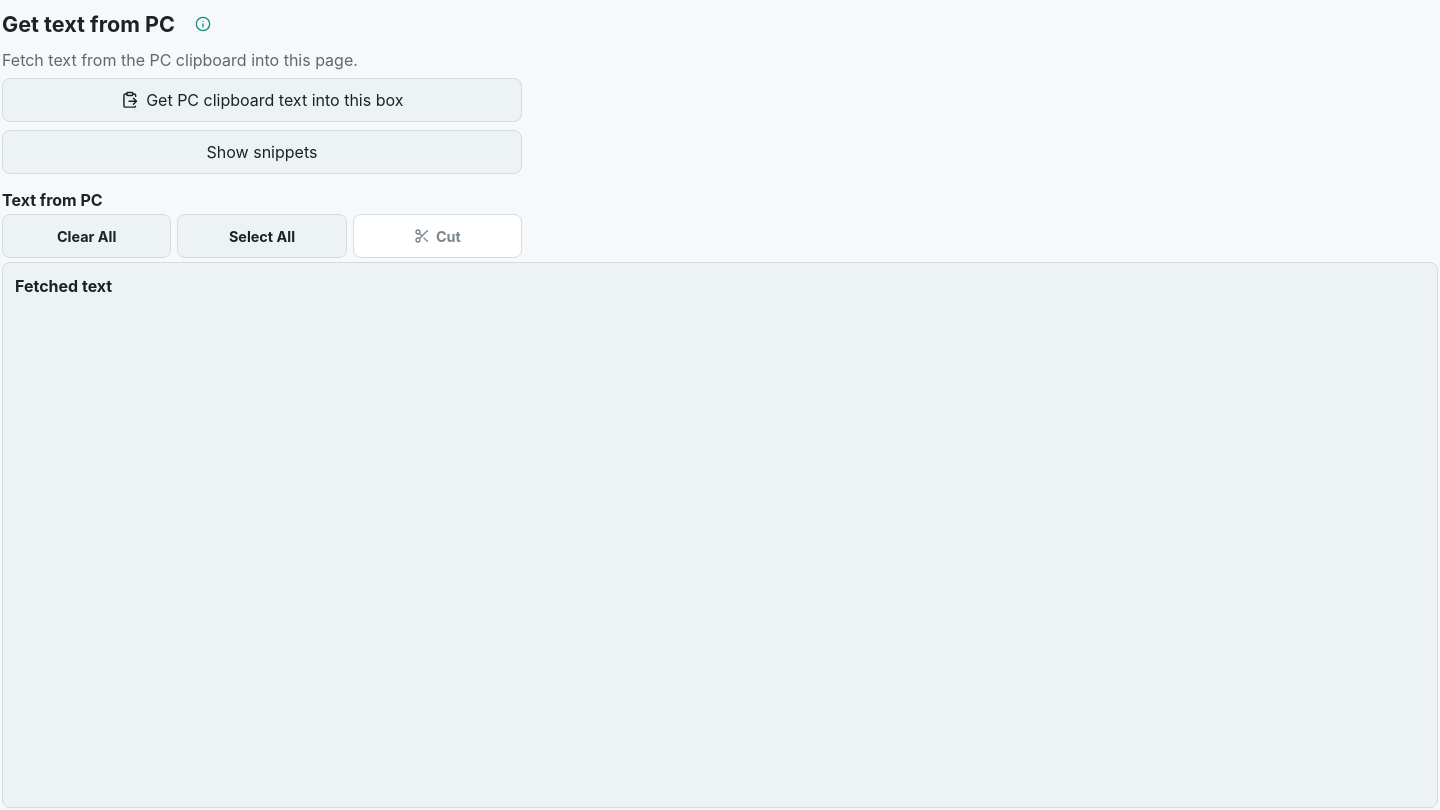
Test: ClipboardReadMode › does not show Copy when clipboard writing is unavailable
This screenshot has width=1440, height=810.
Expected: the button "Cut" is shown, left=353, top=214, right=522, bottom=258
Click the button named "About Get text from PC" at (203, 24), box left=181, top=2, right=225, bottom=46
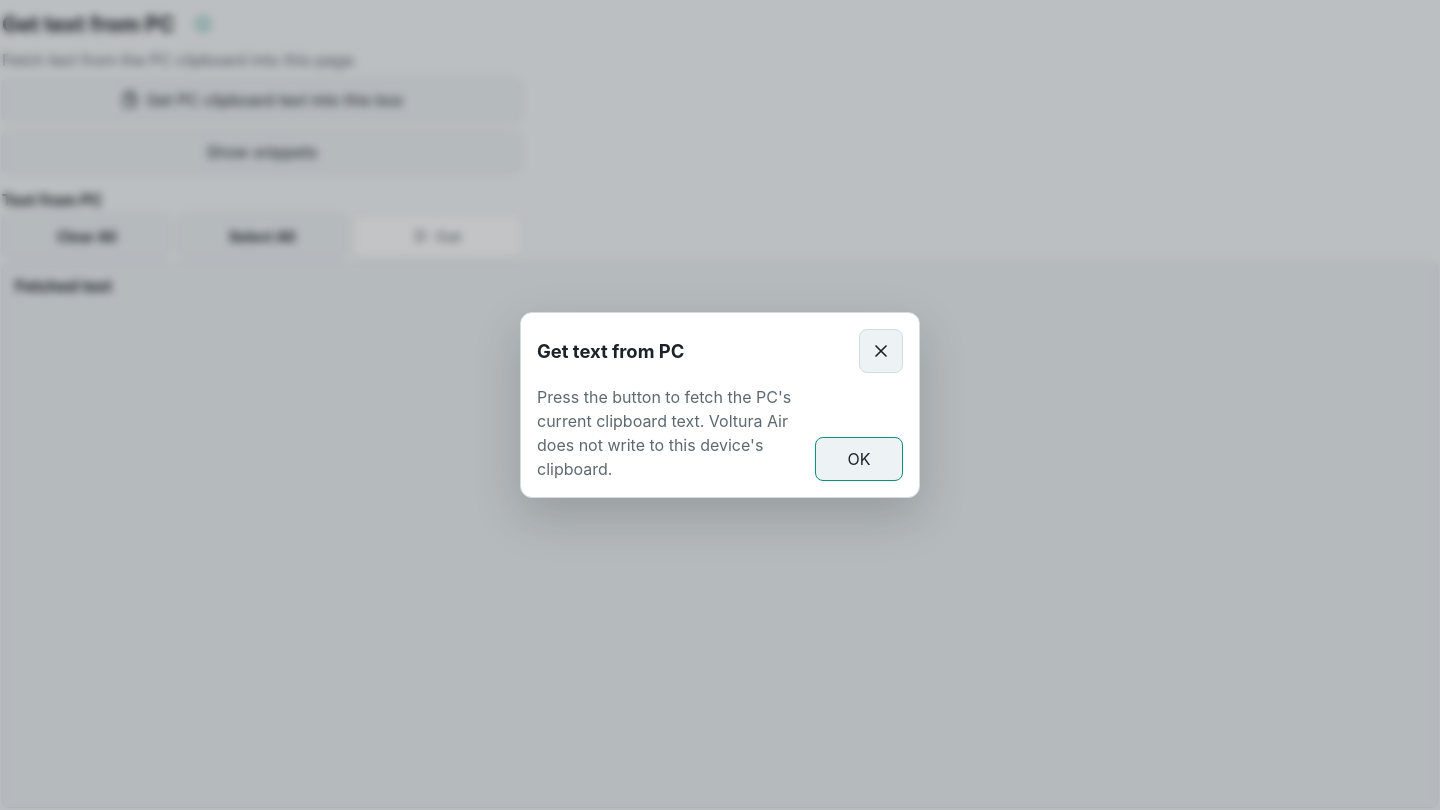
Now the dialog shows "Voltura Air does not write to this device's clipboard.", box left=537, top=387, right=791, bottom=479
